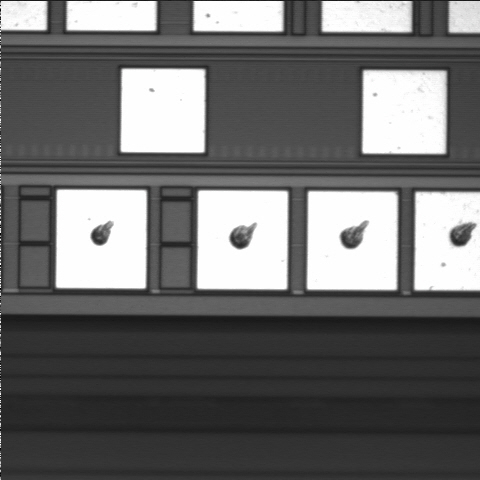pad: (56, 190, 147, 288), (197, 191, 288, 289), (307, 191, 397, 290), (121, 69, 205, 152), (363, 71, 446, 154)
